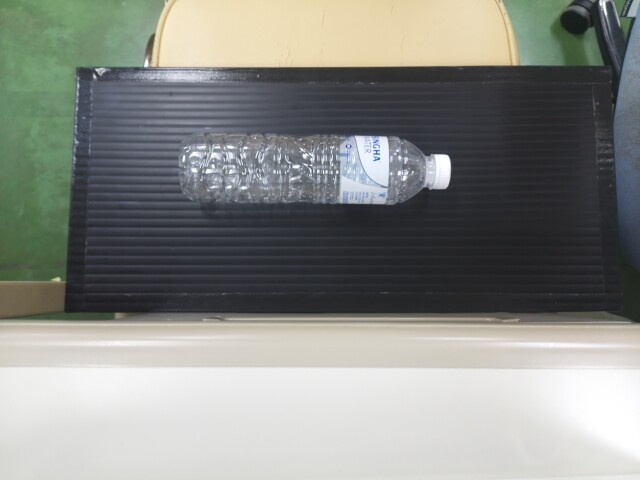plastic_bottle: (172, 128, 453, 206)
